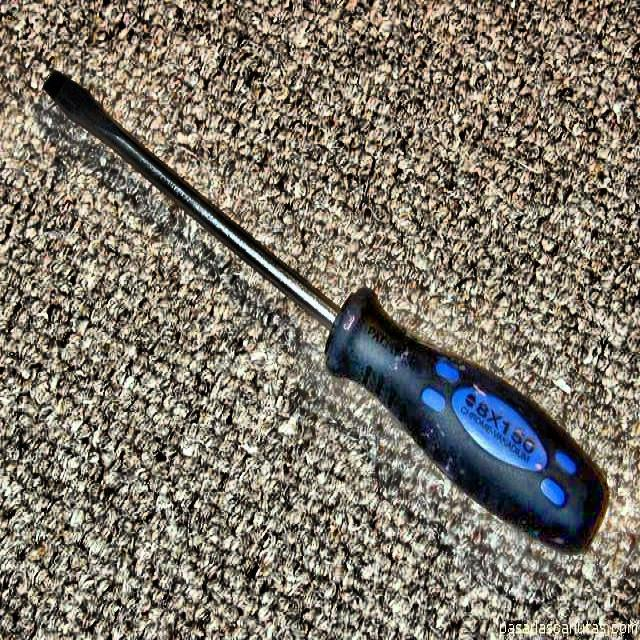screwdriver: (44, 70, 610, 554)
